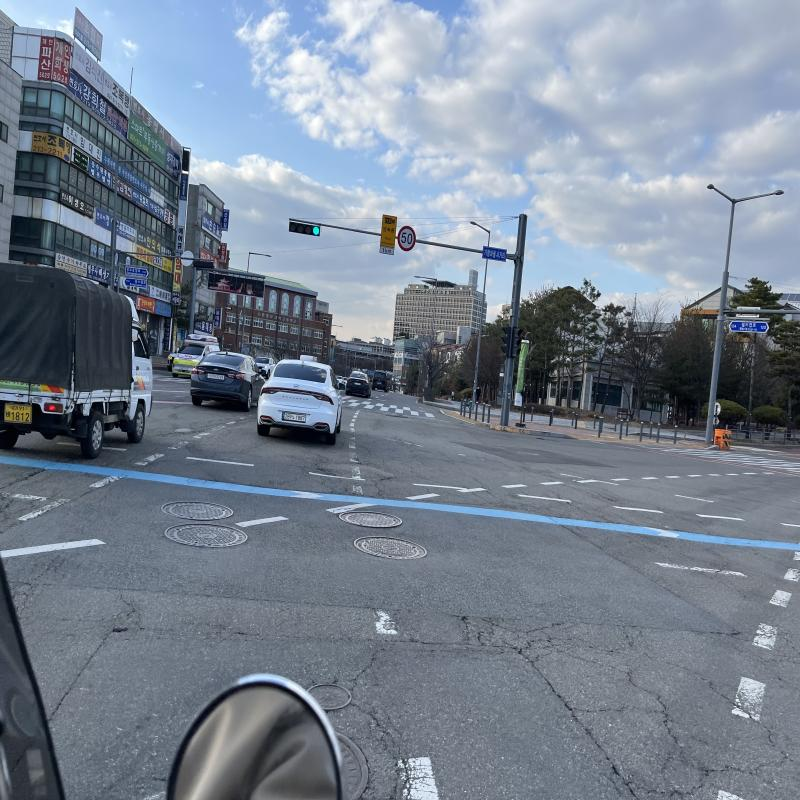green: (312, 226, 320, 237)
